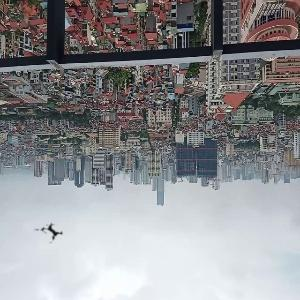drone: (28, 209, 76, 257)
